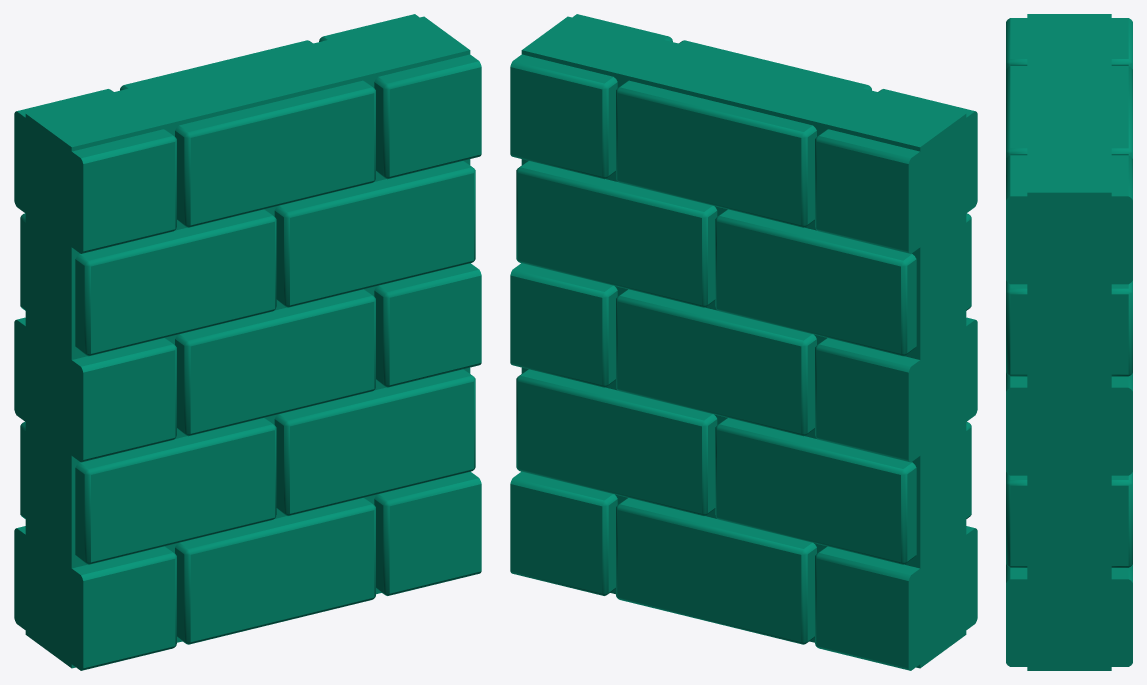
File: wall.fbx
3 renders of one model, left to right at view 1: azimuth 30°, elevation 25°; view 2: azimuth 150°, elevation 25°; view 3: azimuth 270°, elevation 25°, orthographic. The views are drawn at different scales.
Visible parts, largest first — view 1: wall; view 2: wall; view 3: wall.
Part boxes in pixels (<box>): wall: <box>14,14,481,670</box>; wall: <box>510,14,977,670</box>; wall: <box>1006,14,1132,670</box>.
Size of the model in its own units: 2 by 2.5 by 0.6.
